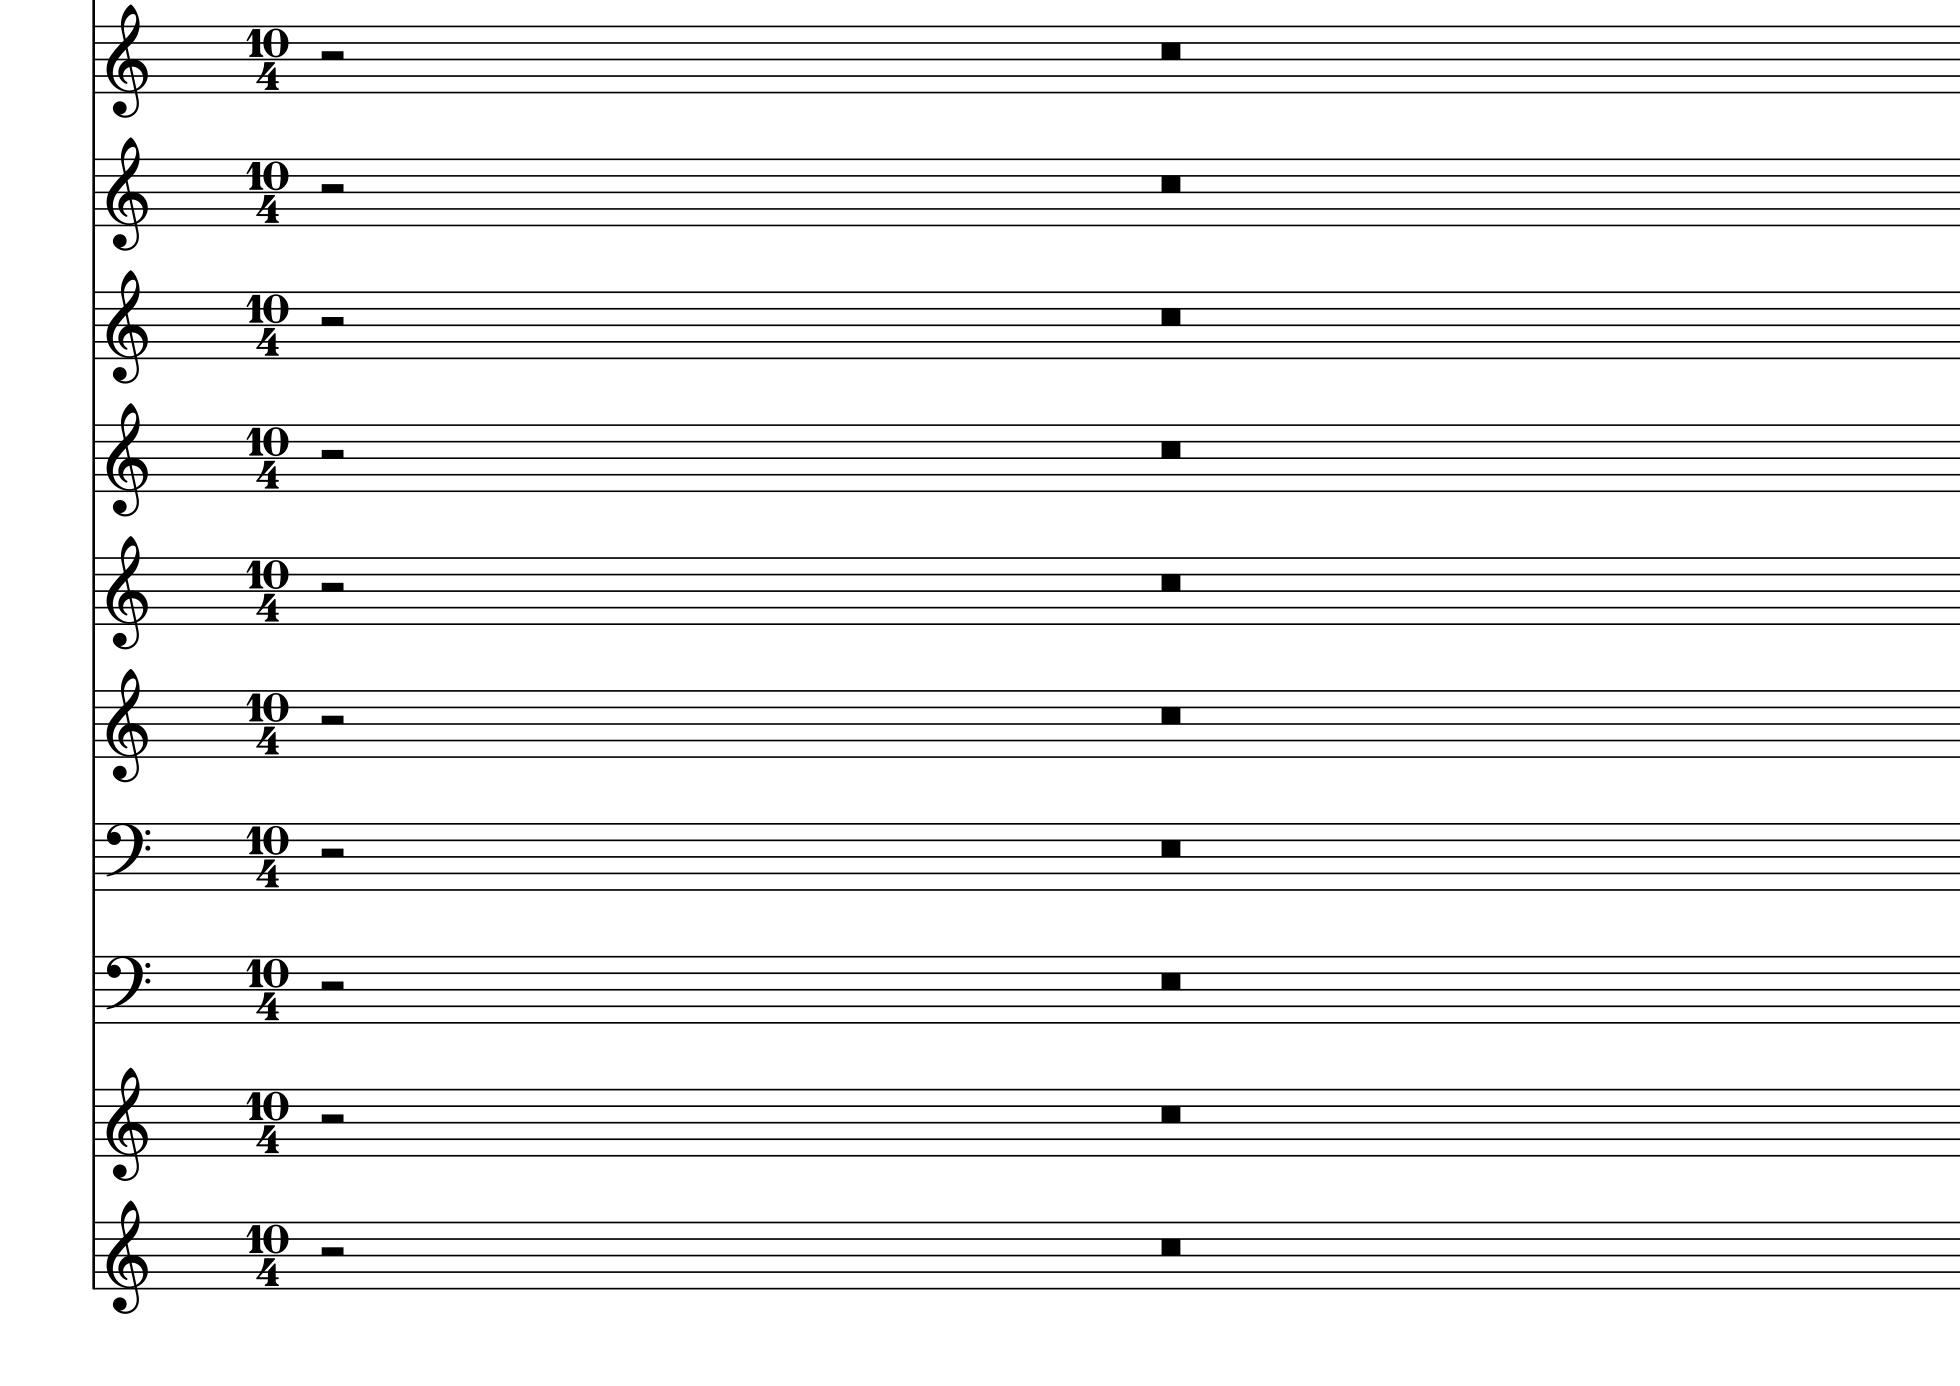0: (262, 955, 289, 988), (264, 1087, 291, 1120), (264, 24, 289, 58), (264, 157, 289, 190), (264, 291, 289, 324), (264, 424, 289, 457), (264, 556, 289, 589), (264, 688, 289, 721), (264, 822, 289, 855), (264, 1221, 289, 1254)
1: (244, 291, 265, 325), (244, 556, 265, 591), (244, 1087, 265, 1122), (244, 1221, 265, 1255), (244, 25, 265, 58), (244, 424, 265, 457), (244, 690, 265, 723), (244, 823, 265, 856), (244, 159, 264, 192), (244, 955, 264, 988)
4: (250, 589, 285, 624), (250, 324, 283, 358), (250, 1254, 283, 1288), (252, 1120, 283, 1155), (252, 58, 283, 91), (252, 190, 283, 223), (252, 457, 283, 490), (252, 723, 283, 756), (252, 856, 283, 889), (252, 988, 283, 1021)
Fclef: (103, 952, 151, 1024), (103, 820, 151, 891)
Gclef: (103, 532, 151, 652), (103, 1, 151, 120), (103, 135, 151, 253), (103, 666, 151, 784), (105, 400, 151, 520), (105, 267, 151, 385), (105, 1065, 151, 1183), (105, 1197, 151, 1315)
Rests2: (315, 178, 349, 198), (315, 312, 349, 331), (315, 444, 349, 463), (315, 709, 349, 729), (315, 843, 349, 862), (315, 1108, 349, 1128), (315, 1240, 349, 1260), (315, 46, 349, 64), (315, 577, 349, 595), (315, 976, 349, 994)
Single_barline: (87, 955, 103, 1021), (87, 823, 103, 888), (87, 25, 102, 93), (87, 291, 102, 358), (87, 159, 102, 225), (87, 424, 102, 490), (87, 558, 102, 624), (87, 690, 102, 756), (87, 1089, 102, 1155), (87, 1222, 100, 1288)
TimeSig: (244, 688, 292, 756), (244, 822, 292, 889), (246, 556, 292, 624), (244, 954, 291, 1021), (244, 1221, 291, 1288), (246, 157, 291, 225), (246, 291, 291, 358), (247, 423, 291, 492), (246, 1087, 289, 1156), (246, 25, 291, 91)
